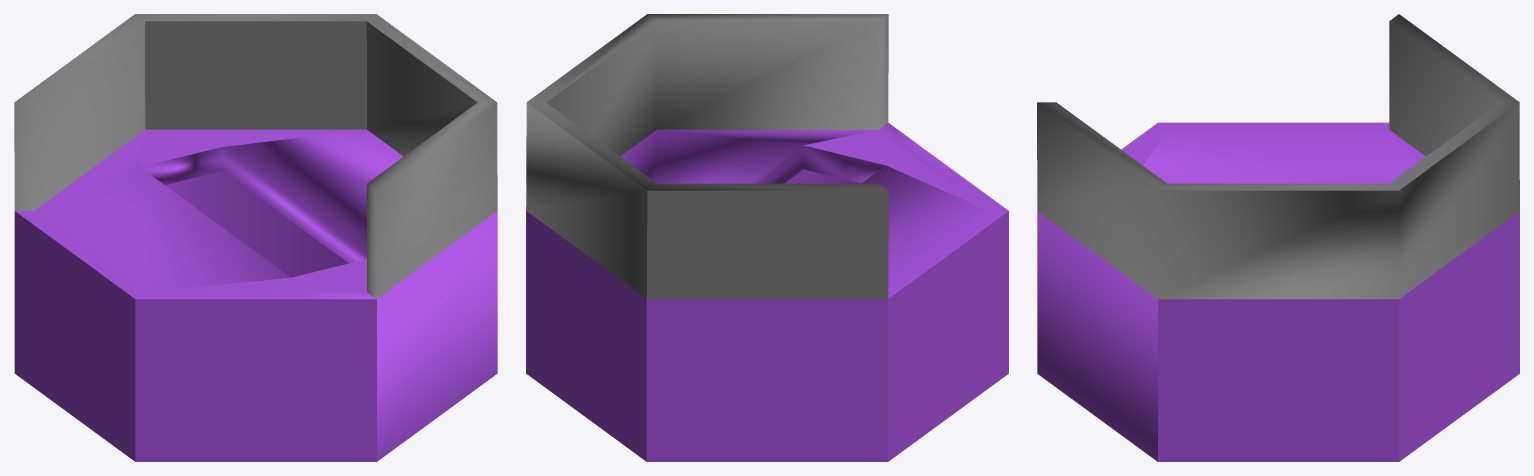
The model's file is ResourceTileStage3_3.fbx.
3 renders of one model, left to right at view 1: azimuth 30°, elevation 25°; view 2: azimuth 150°, elevation 25°; view 3: azimuth 270°, elevation 25°, orthographic.
Visible parts, largest first — view 1: ResourceTileStage3_3; view 2: ResourceTileStage3_3; view 3: ResourceTileStage3_3.
Part boxes in pixels (x1,y1,x2,y2): ResourceTileStage3_3: (14,14,497,461); ResourceTileStage3_3: (526,14,1008,461); ResourceTileStage3_3: (1037,14,1519,461).
Bounding box in the file's own units: 173 × 124 × 200.
